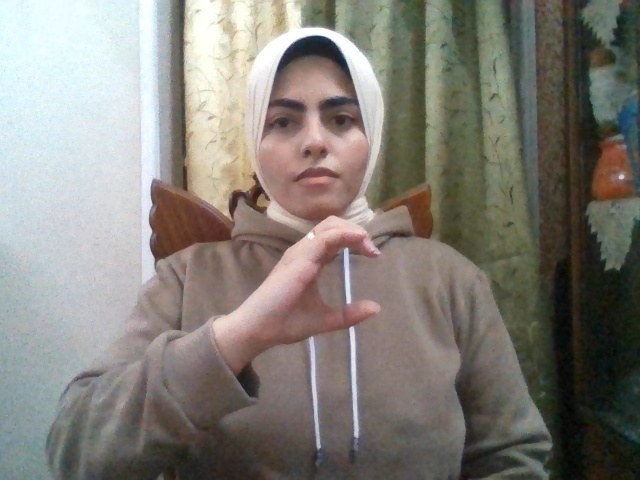C: (258, 215, 382, 348)
